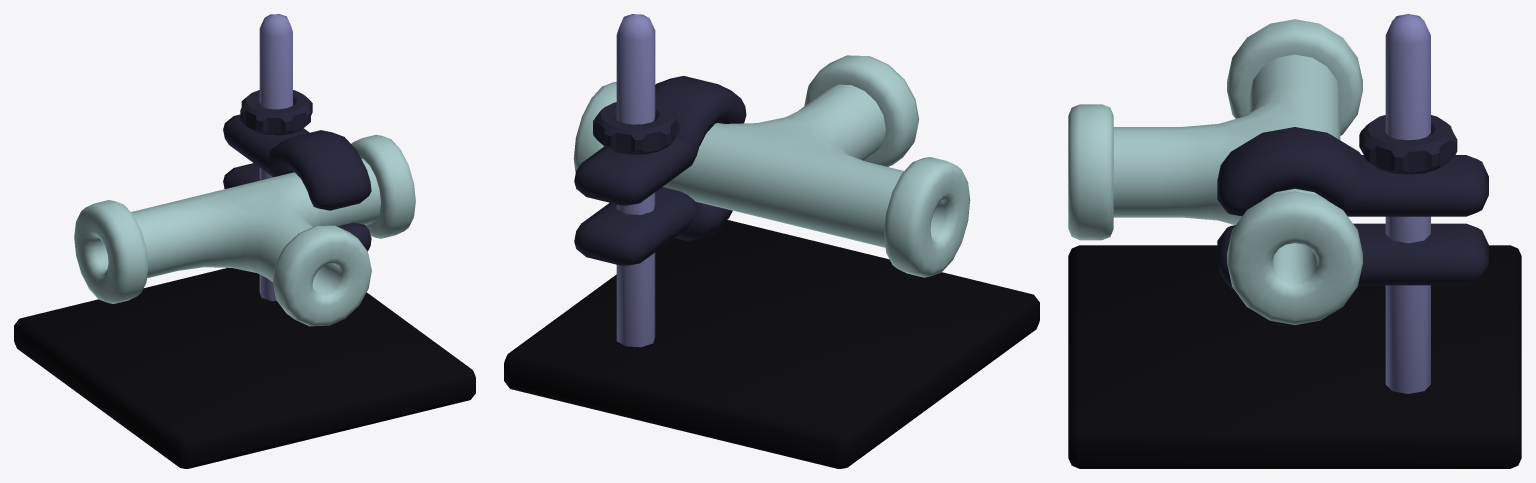
The model's file is LastLuna_Model_Station_Pipe_Tri.fbx.
3 views of the same model, side by side, from view 1: azimuth 30°, elevation 25°; view 2: azimuth 150°, elevation 25°; view 3: azimuth 270°, elevation 25° (orthographic). The views are drawn at different scales.
Visible parts, largest first — view 1: Stand_Base_Small001, Pipe_Tri001, Pipe_Arm_Clamp001, Stand_Pole_Small001, Pipe_Arm_Clamp_Handle001; view 2: Stand_Base_Small001, Pipe_Tri001, Pipe_Arm_Clamp001, Stand_Pole_Small001, Pipe_Arm_Clamp_Handle001; view 3: Stand_Base_Small001, Pipe_Tri001, Pipe_Arm_Clamp001, Stand_Pole_Small001, Pipe_Arm_Clamp_Handle001.
Boxes of the visible parts, <box> form: Stand_Base_Small001: <box>14,268,475,468</box>; Pipe_Tri001: <box>74,134,415,326</box>; Pipe_Arm_Clamp001: <box>223,114,371,250</box>; Stand_Pole_Small001: <box>259,14,292,301</box>; Pipe_Arm_Clamp_Handle001: <box>240,90,312,135</box>; Stand_Base_Small001: <box>504,220,1039,468</box>; Pipe_Tri001: <box>573,55,970,277</box>; Pipe_Arm_Clamp001: <box>574,76,746,265</box>; Stand_Pole_Small001: <box>616,14,655,347</box>; Pipe_Arm_Clamp_Handle001: <box>593,102,679,154</box>; Stand_Base_Small001: <box>1068,245,1521,468</box>; Pipe_Tri001: <box>1068,19,1362,324</box>; Pipe_Arm_Clamp001: <box>1217,127,1488,290</box>; Stand_Pole_Small001: <box>1385,14,1430,393</box>; Pipe_Arm_Clamp_Handle001: <box>1359,115,1457,174</box>.
Size of the model in its own units: 39.37 by 39.37 by 39.37.
